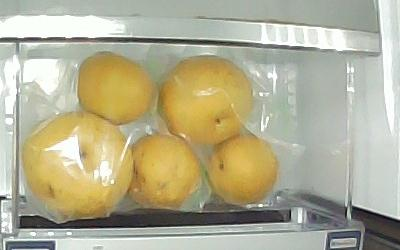pear_vinyl: (23, 113, 133, 217), (160, 55, 254, 146), (125, 133, 203, 209), (77, 51, 156, 123), (206, 132, 281, 205)
